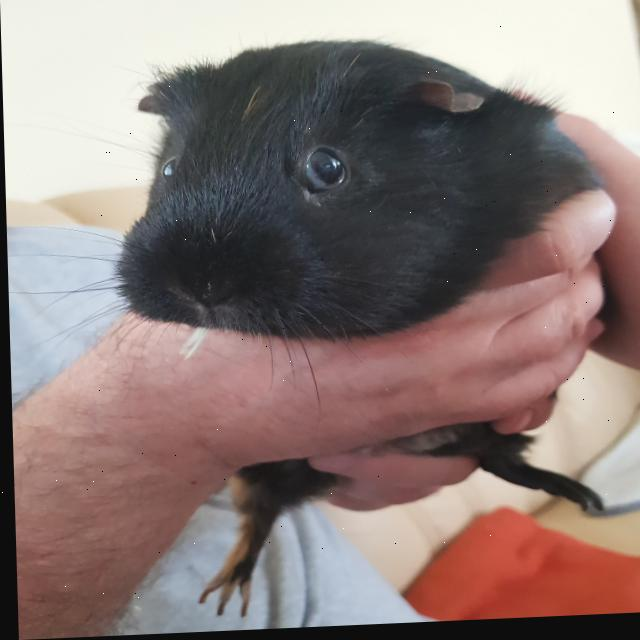guinea pig: (108, 29, 618, 627)
